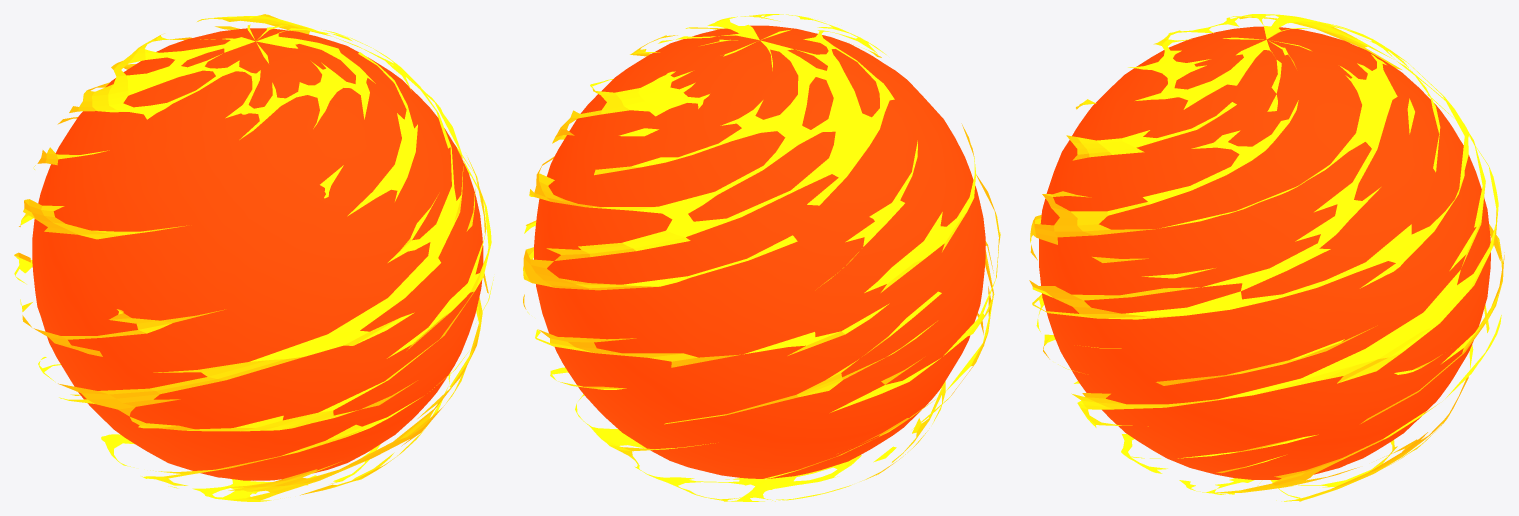
The model's file is fireball.glb.
The picture shows the model from 3 angles, left to right: view 1: azimuth 30°, elevation 25°; view 2: azimuth 150°, elevation 25°; view 3: azimuth 270°, elevation 25°; orthographic projection.
Visible parts, largest first — view 1: Сфера.001, Сфера; view 2: Сфера.001, Сфера; view 3: Сфера.001, Сфера.
Boxes of the visible parts, bbox=[...] form: Сфера.001: bbox=[32, 28, 483, 480]; Сфера: bbox=[14, 14, 493, 501]; Сфера.001: bbox=[534, 25, 985, 478]; Сфера: bbox=[523, 14, 1000, 501]; Сфера.001: bbox=[1039, 26, 1490, 479]; Сфера: bbox=[1029, 14, 1504, 501].
Size of the model in its own units: 1.9 by 1.95 by 1.89.
